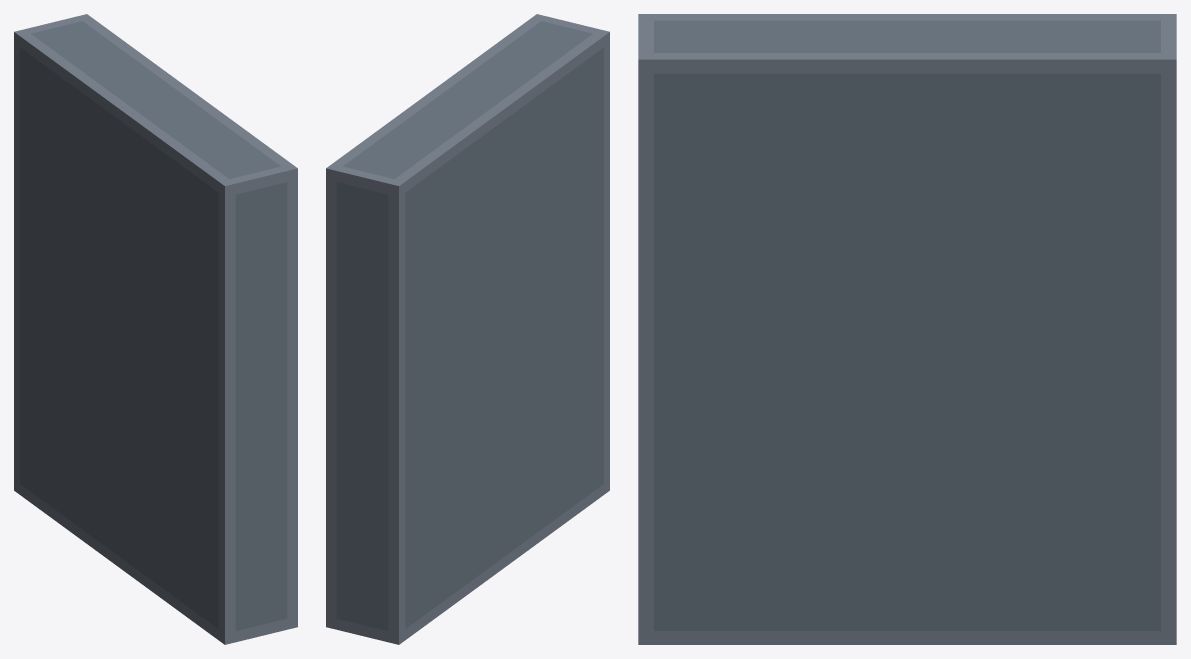
The model's file is Wall_D_1_1.fbx.
3 views of the same model, side by side, from view 1: azimuth 30°, elevation 25°; view 2: azimuth 150°, elevation 25°; view 3: azimuth 270°, elevation 25° (orthographic). The views are drawn at different scales.
Visible parts, largest first — view 1: Wall_D_1_1; view 2: Wall_D_1_1; view 3: Wall_D_1_1.
Part boxes in pixels (x1,y1,x2,y2): Wall_D_1_1: (14,14,297,644); Wall_D_1_1: (326,14,609,644); Wall_D_1_1: (638,14,1176,644).
Bounding box in the file's own units: 40 × 240 × 200.
